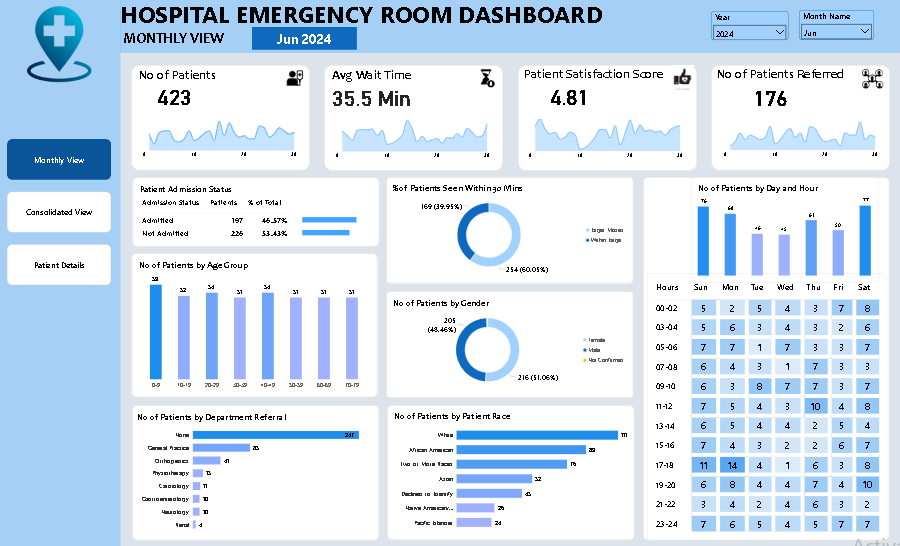

The dashboard page shown, as its layout file describes it:
{"tool":"powerbi","page":{"name":"Monthly View","canvas":[2300,1400],"ordinal":0},"visuals":[{"type":"shape","box":[1642.5,455,627.5,925],"z":0},{"type":"shape","box":[987.5,455,630,272.5],"z":1000},{"type":"shape","box":[987.5,745,630,272.5],"z":2000},{"type":"shape","box":[990,1035,630,345],"z":3000},{"type":"shape","box":[340,1035,630,345],"z":4000},{"type":"shape","box":[340,455,630,177.5],"z":5000},{"type":"shape","box":[337.3,170.3,456.1,269],"z":6000},{"type":"shape","box":[0,0,312,1400],"z":7000},{"type":"shape","box":[311.4,0,1988.6,140],"z":8000},{"type":"textbox","box":[311.4,0,1305.7,80],"z":9000},{"type":"textbox","box":[311.4,80,334.3,51.4],"z":10000},{"type":"cardVisual","fields":{"Data":["Hospital ER_Data.No of Patients"]},"box":[372.6,215.2,154.2,70.7],"z":11000},{"type":"slicer","fields":{"Values":["Date Table.Year"]},"box":[1814.3,34.3,197.1,74.3],"z":12000},{"type":"slicer","fields":{"Values":["Date Table.Month Name"]},"box":[2038.9,30.5,190.9,76.4],"z":13000},{"type":"shape","box":[829.8,170,456.1,269.8],"z":14000},{"type":"shape","box":[1814.9,170,456.1,269],"z":15000},{"type":"shape","box":[1322.4,170,456.1,269.8],"z":16000},{"type":"textbox","box":[360,175,228.6,45],"z":17000},{"type":"areaChart","fields":{"Y":["Hospital ER_Data.No of Patients"],"Category":["Date Table.Day"]},"box":[346.9,282.7,433.7,144.6],"z":18000},{"type":"cardVisual","fields":{"Data":["Min(Date Table.Month & Year)"]},"box":[645.7,73.9,266.6,57.8],"z":19000},{"type":"cardVisual","fields":{"Data":["Hospital ER_Data.Avg Satisfaction Score"]},"box":[1378.1,215.2,154.2,70.7],"z":20000},{"type":"textbox","box":[850,175,228.6,45],"z":21000},{"type":"areaChart","fields":{"Category":["Date Table.Day"],"Y":["Avg(Hospital ER_Data.Patient Waittime)"]},"box":[838.4,285.9,433.7,144.6],"z":22000},{"type":"cardVisual","fields":{"Data":["Hospital ER_Data.Avg Wait Time"]},"box":[838.4,218.4,228.1,70.7],"z":23000},{"type":"textbox","box":[1339.5,173.5,408,45],"z":24000},{"type":"areaChart","fields":{"Category":["Date Table.Day"],"Y":["Hospital ER_Data.Avg Satisfaction Score"]},"box":[1329.9,285.9,433.7,144.6],"z":25000},{"type":"cardVisual","fields":{"Data":["Hospital ER_Data.No of Patients Referred"]},"box":[1888.8,218.4,154.2,70.7],"z":26000},{"type":"textbox","box":[1831.4,174.3,348.6,42.9],"z":27000},{"type":"areaChart","fields":{"Category":["Date Table.Day"],"Y":["Hospital ER_Data.No of Patients Referred"]},"box":[1824.6,282.7,433.7,144.6],"z":28000},{"type":"pivotTable","title":"Patient Admission Status","fields":{"Rows":["Hospital ER_Data.Admission Status"],"Values":["Hospital ER_Data.No of Patients","Divide(Hospital ER_Data.No of Patients, ScopedEval(Hospital ER_Data.No of Patients, []))"]},"box":[342.5,455,630,177.5],"z":29000},{"type":"barChart","fields":{"Y":["Hospital ER_Data.No of Patients"],"Category":["Hospital ER_Data.Admission Status"]},"box":[757.5,520,215,120],"z":30000},{"type":"shape","box":[337.5,650,630,367.5],"z":31000},{"type":"clusteredColumnChart","title":"No of Patients by Age Group","fields":{"Category":["Hospital ER_Data.Age Group"],"Y":["Hospital ER_Data.No of Patients"]},"box":[340,650,622.5,367.5],"z":32000},{"type":"clusteredBarChart","fields":{"Category":["Hospital ER_Data.Department Referral"],"Y":["Hospital ER_Data.No of Patients"]},"box":[335,1035,632.5,345],"z":33000},{"type":"donutChart","title":"% of Patients Seen Within 30 Mins","fields":{"Y":["Hospital ER_Data.No of Patients"],"Category":["Hospital ER_Data.Waiting Status"]},"box":[988.6,454.3,631.4,271.4],"z":33001},{"type":"donutChart","title":"No of Patients by Gender","fields":{"Y":["Hospital ER_Data.No of Patients"],"Category":["Hospital ER_Data.Patient Gender"]},"box":[988.6,745.7,631.4,271.4],"z":33002},{"type":"clusteredBarChart","fields":{"Y":["Hospital ER_Data.No of Patients"],"Category":["Hospital ER_Data.Patient Race"]},"box":[990,1034.3,631.4,345.7],"z":33003},{"type":"pivotTable","fields":{"Rows":["Hospital ER_Data.Waiting Interval"],"Columns":["Date Table.Day Name"],"Values":["Hospital ER_Data.No of Patients"]},"box":[1651.4,700,608.6,680],"z":33004},{"type":"columnChart","title":"No of Patients by Day and Hour","fields":{"Category":["Date Table.Day Name"],"Y":["Hospital ER_Data.No of Patients"]},"box":[1762.9,454.3,477.1,271.4],"z":33005},{"type":"image","box":[22.9,20,265.7,194.3],"z":33006},{"type":"image","box":[731.4,174.3,48.6,60],"z":33007},{"type":"image","box":[1222.9,174.3,48.6,62.9],"z":33008},{"type":"image","box":[1705.7,171.4,74.3,62.9],"z":33009},{"type":"image","box":[2200,177.1,54.3,54.3],"z":33010},{"type":"pageNavigator","box":[22.9,360,265.7,374.3],"z":33011}]}

Visuals, with their boxes in screenshot pixels (x1, y1, x2, y2), scaled from the page's 2300x1400 canvas onto the 900x546 screenshot:
shape: <region>643, 177, 888, 538</region>
shape: <region>386, 177, 633, 284</region>
shape: <region>386, 291, 633, 397</region>
shape: <region>387, 404, 634, 538</region>
shape: <region>133, 404, 380, 538</region>
shape: <region>133, 177, 380, 247</region>
shape: <region>132, 66, 310, 171</region>
shape: <region>0, 0, 122, 545</region>
shape: <region>122, 0, 899, 55</region>
textbox: <region>122, 0, 633, 31</region>
textbox: <region>122, 31, 253, 51</region>
cardVisual - Hospital ER_Data.No of Patients: <region>146, 84, 206, 112</region>
slicer - Date Table.Year: <region>710, 13, 787, 42</region>
slicer - Date Table.Month Name: <region>798, 12, 873, 42</region>
shape: <region>325, 66, 503, 172</region>
shape: <region>710, 66, 889, 171</region>
shape: <region>517, 66, 696, 172</region>
textbox: <region>141, 68, 230, 86</region>
areaChart - Hospital ER_Data.No of Patients x Date Table.Day: <region>136, 110, 305, 167</region>
cardVisual - Min(Date Table.Month & Year): <region>253, 29, 357, 51</region>
cardVisual - Hospital ER_Data.Avg Satisfaction Score: <region>539, 84, 600, 112</region>
textbox: <region>333, 68, 422, 86</region>
areaChart - Date Table.Day x Avg(Hospital ER_Data.Patient Waittime): <region>328, 112, 498, 168</region>
cardVisual - Hospital ER_Data.Avg Wait Time: <region>328, 85, 417, 113</region>
textbox: <region>524, 68, 684, 85</region>
areaChart - Date Table.Day x Hospital ER_Data.Avg Satisfaction Score: <region>520, 112, 690, 168</region>
cardVisual - Hospital ER_Data.No of Patients Referred: <region>739, 85, 799, 113</region>
textbox: <region>717, 68, 853, 85</region>
areaChart - Date Table.Day x Hospital ER_Data.No of Patients Referred: <region>714, 110, 884, 167</region>
"Patient Admission Status" pivotTable: <region>134, 177, 381, 247</region>
barChart - Hospital ER_Data.No of Patients x Hospital ER_Data.Admission Status: <region>296, 203, 381, 250</region>
shape: <region>132, 254, 379, 397</region>
"No of Patients by Age Group" clusteredColumnChart: <region>133, 254, 377, 397</region>
clusteredBarChart - Hospital ER_Data.Department Referral x Hospital ER_Data.No of Patients: <region>131, 404, 379, 538</region>
"% of Patients Seen Within 30 Mins" donutChart: <region>387, 177, 634, 283</region>
"No of Patients by Gender" donutChart: <region>387, 291, 634, 397</region>
clusteredBarChart - Hospital ER_Data.No of Patients x Hospital ER_Data.Patient Race: <region>387, 403, 634, 538</region>
pivotTable - Hospital ER_Data.Waiting Interval x Date Table.Day Name: <region>646, 273, 884, 538</region>
"No of Patients by Day and Hour" columnChart: <region>690, 177, 877, 283</region>
image: <region>9, 8, 113, 84</region>
image: <region>286, 68, 305, 91</region>
image: <region>479, 68, 498, 93</region>
image: <region>667, 67, 697, 91</region>
image: <region>861, 69, 882, 90</region>
pageNavigator: <region>9, 140, 113, 286</region>
